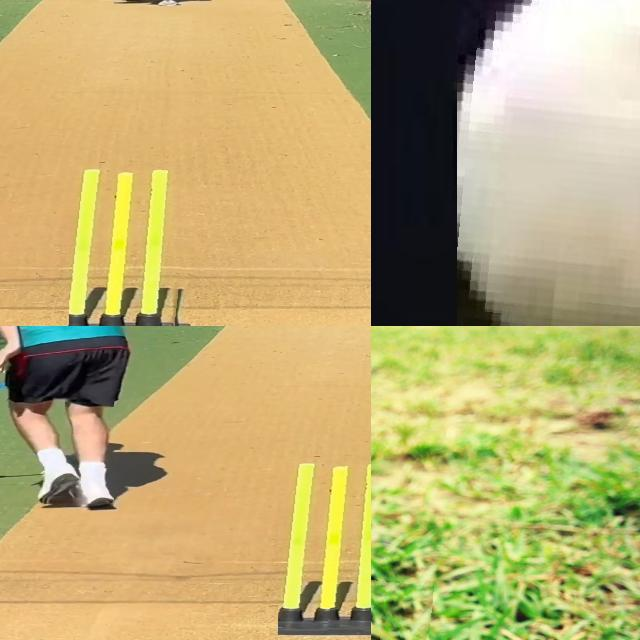Cricket ball: (457, 0, 640, 326)
Stumps: (68, 168, 192, 326), (278, 462, 371, 635)
